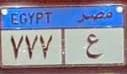7: (8, 33, 23, 60), (24, 34, 38, 59), (40, 34, 53, 58)
ain: (84, 31, 106, 61)
